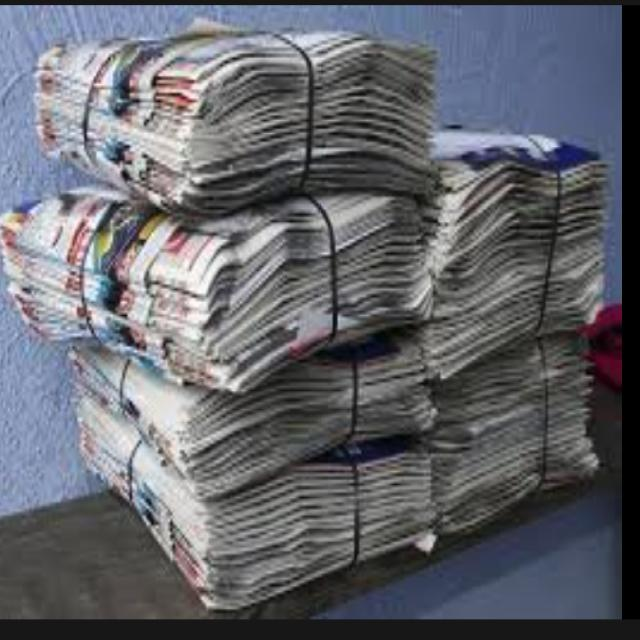Koran: (7, 211, 434, 618), (33, 20, 446, 222)
